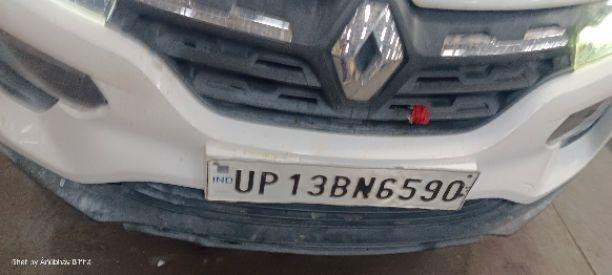license_plate: (204, 155, 480, 211)
